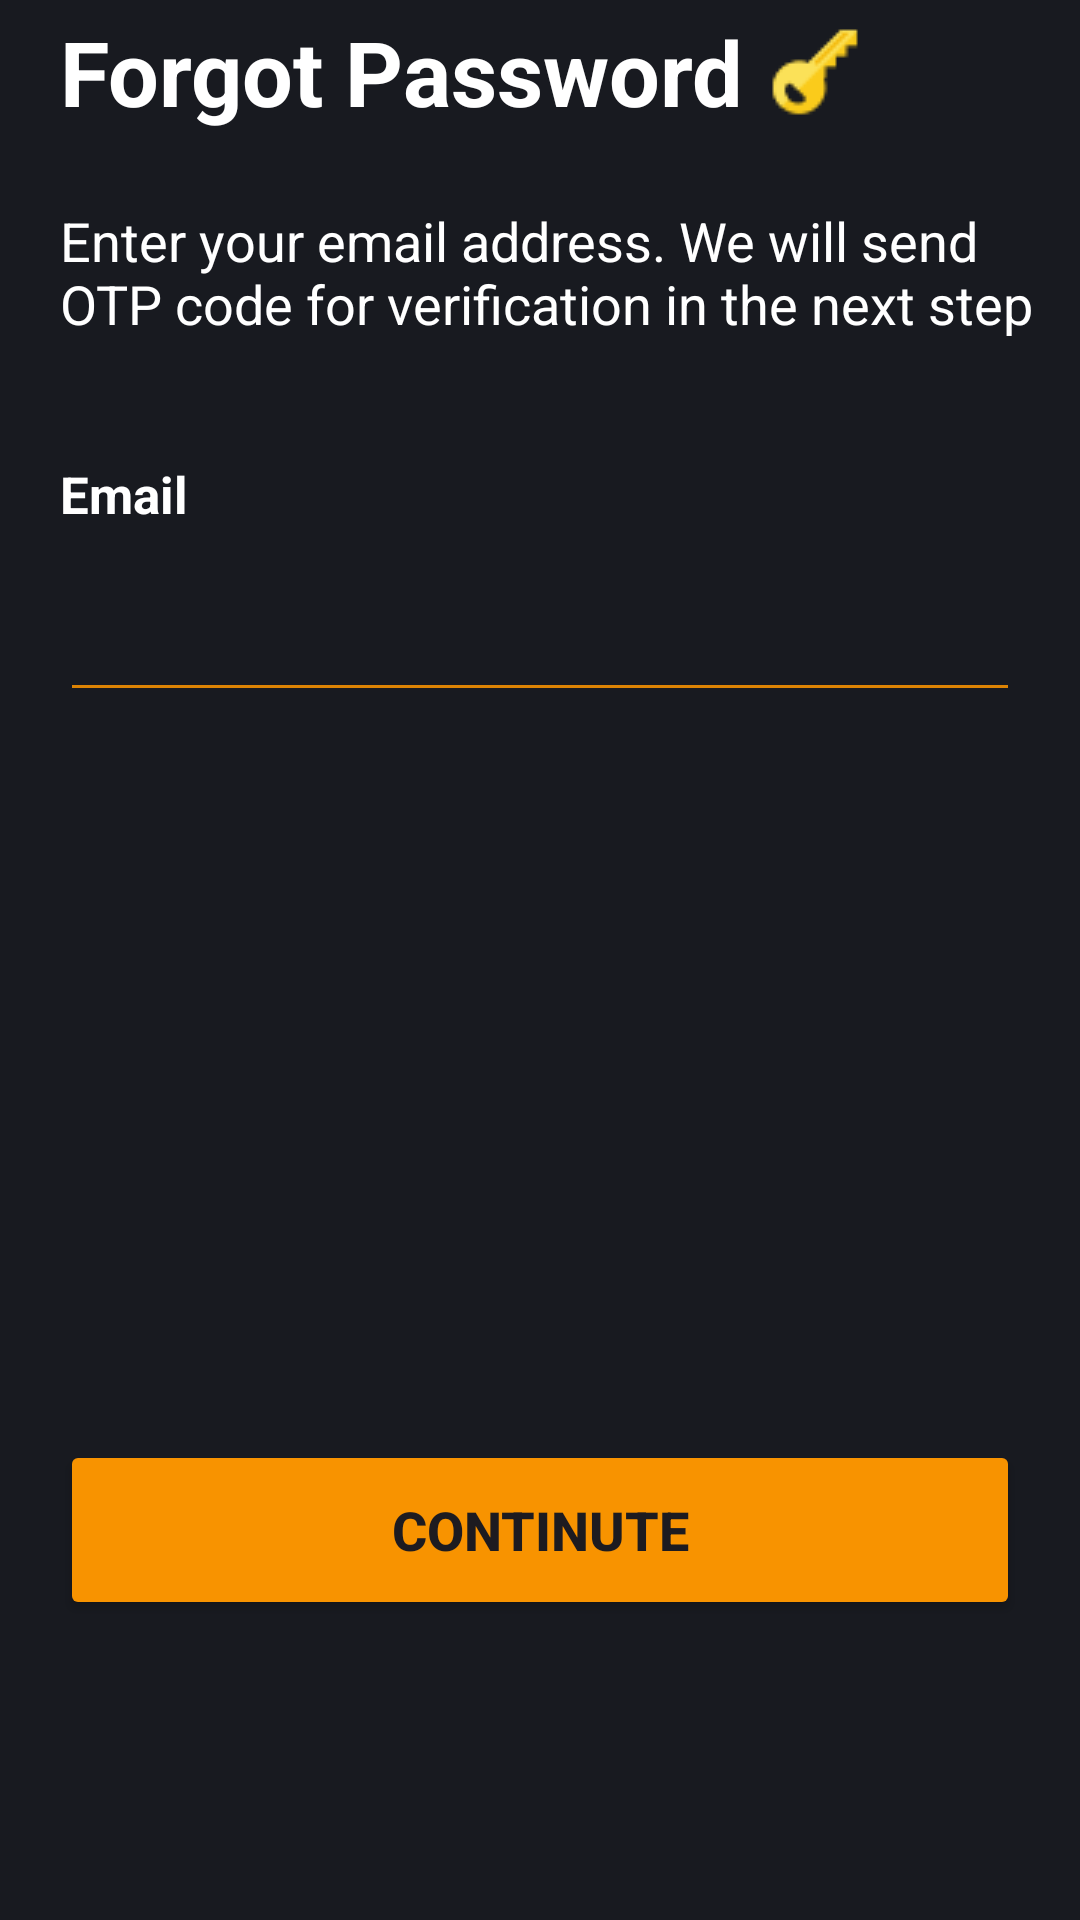

Icons on this 1080 x 1920 Android screen, each with the point to tap as [x,y]:
key: [815,72]
